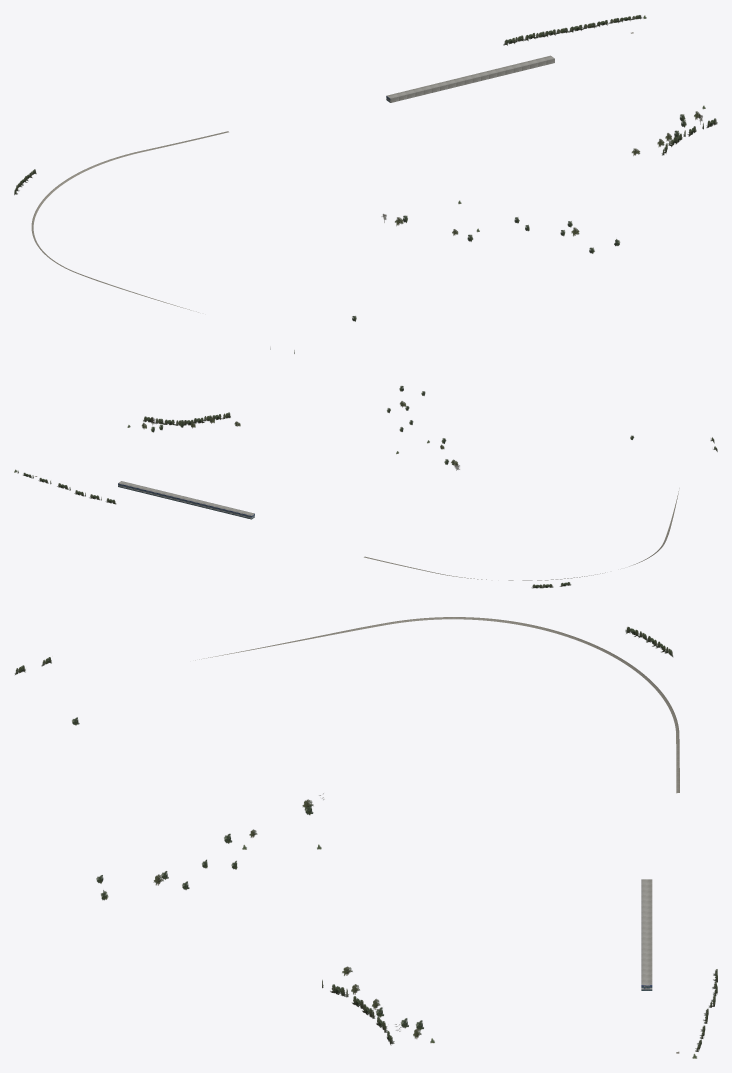
3 views of the same model, one above another, from view 1: azimuth 30°, elevation 25°; view 2: azimuth 150°, elevation 25°; view 3: azimuth 270°, elevation 25° (orthographic). The views are drawn at different scales.
Visible parts, largest first — view 1: highspeedring2_2; view 2: highspeedring2_2; view 3: highspeedring2_2.
Boxes of the visible parts, x1=… form: highspeedring2_2: x1=14, y1=15, x2=717, y2=353; highspeedring2_2: x1=14, y1=386, x2=717, y2=588; highspeedring2_2: x1=15, y1=617, x2=717, y2=1058.
Size of the model in its own units: 1356 by 35.38 by 905.
Materials: 3 (3 with a texture image).
